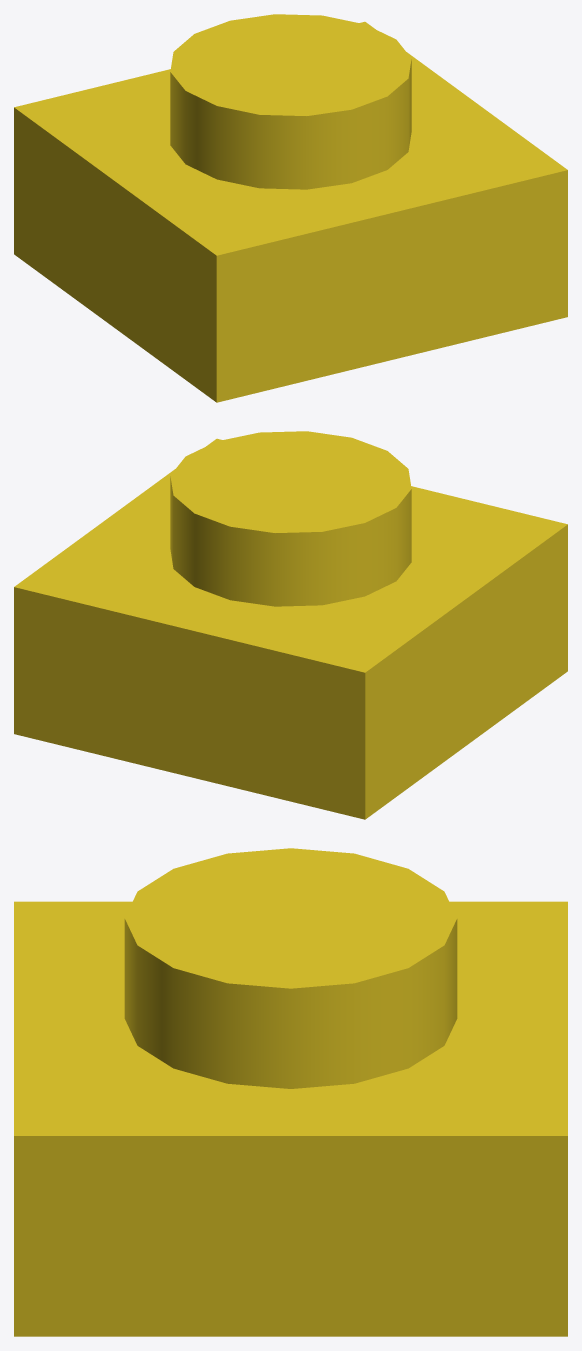
Rendered from plate_1x1.glb.
The picture shows the model from 3 angles, top to bottom: view 1: azimuth 30°, elevation 25°; view 2: azimuth 150°, elevation 25°; view 3: azimuth 270°, elevation 25°; orthographic projection. The views are drawn at different scales.
Parts seen in each view (by area): view 1: 3024.dat; view 2: 3024.dat; view 3: 3024.dat.
Boxes of the visible parts, x1,y1,x2,y2 form: 3024.dat: (14, 14, 567, 402); 3024.dat: (14, 431, 567, 819); 3024.dat: (14, 848, 567, 1336).
Size of the model in its own units: 1.04 by 0.6235 by 1.04.
